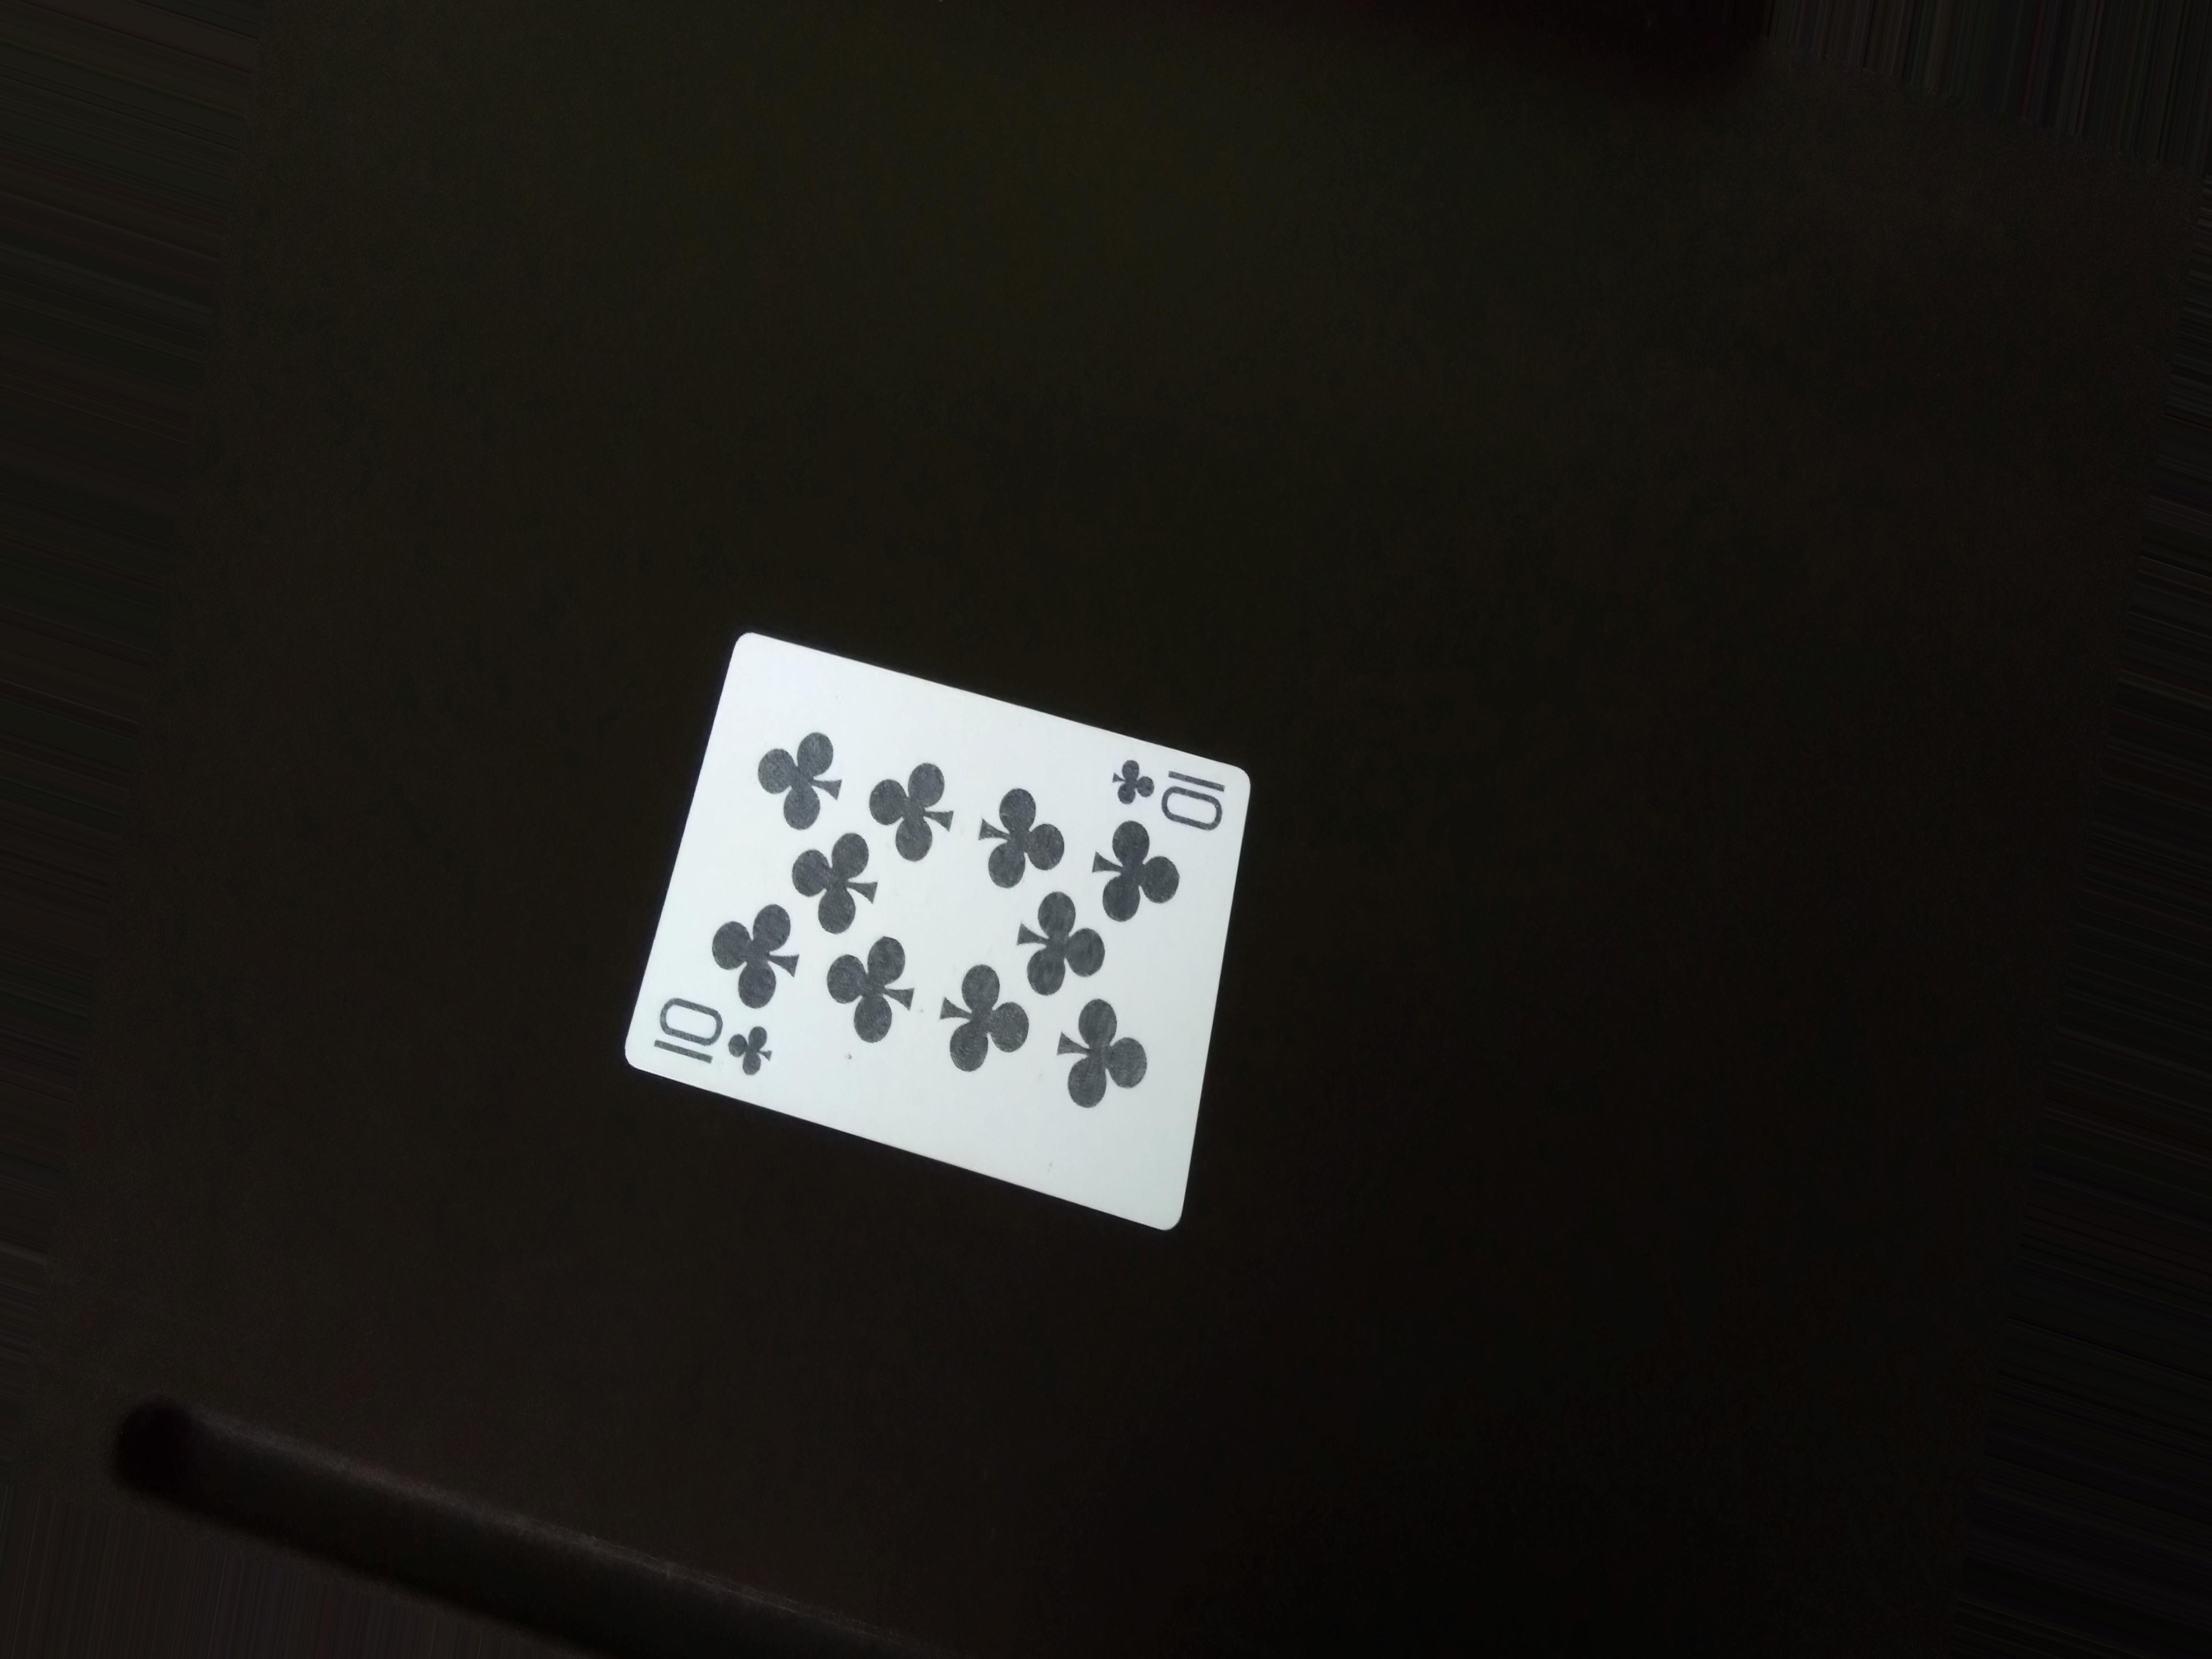10C: (648, 992, 784, 1084)
